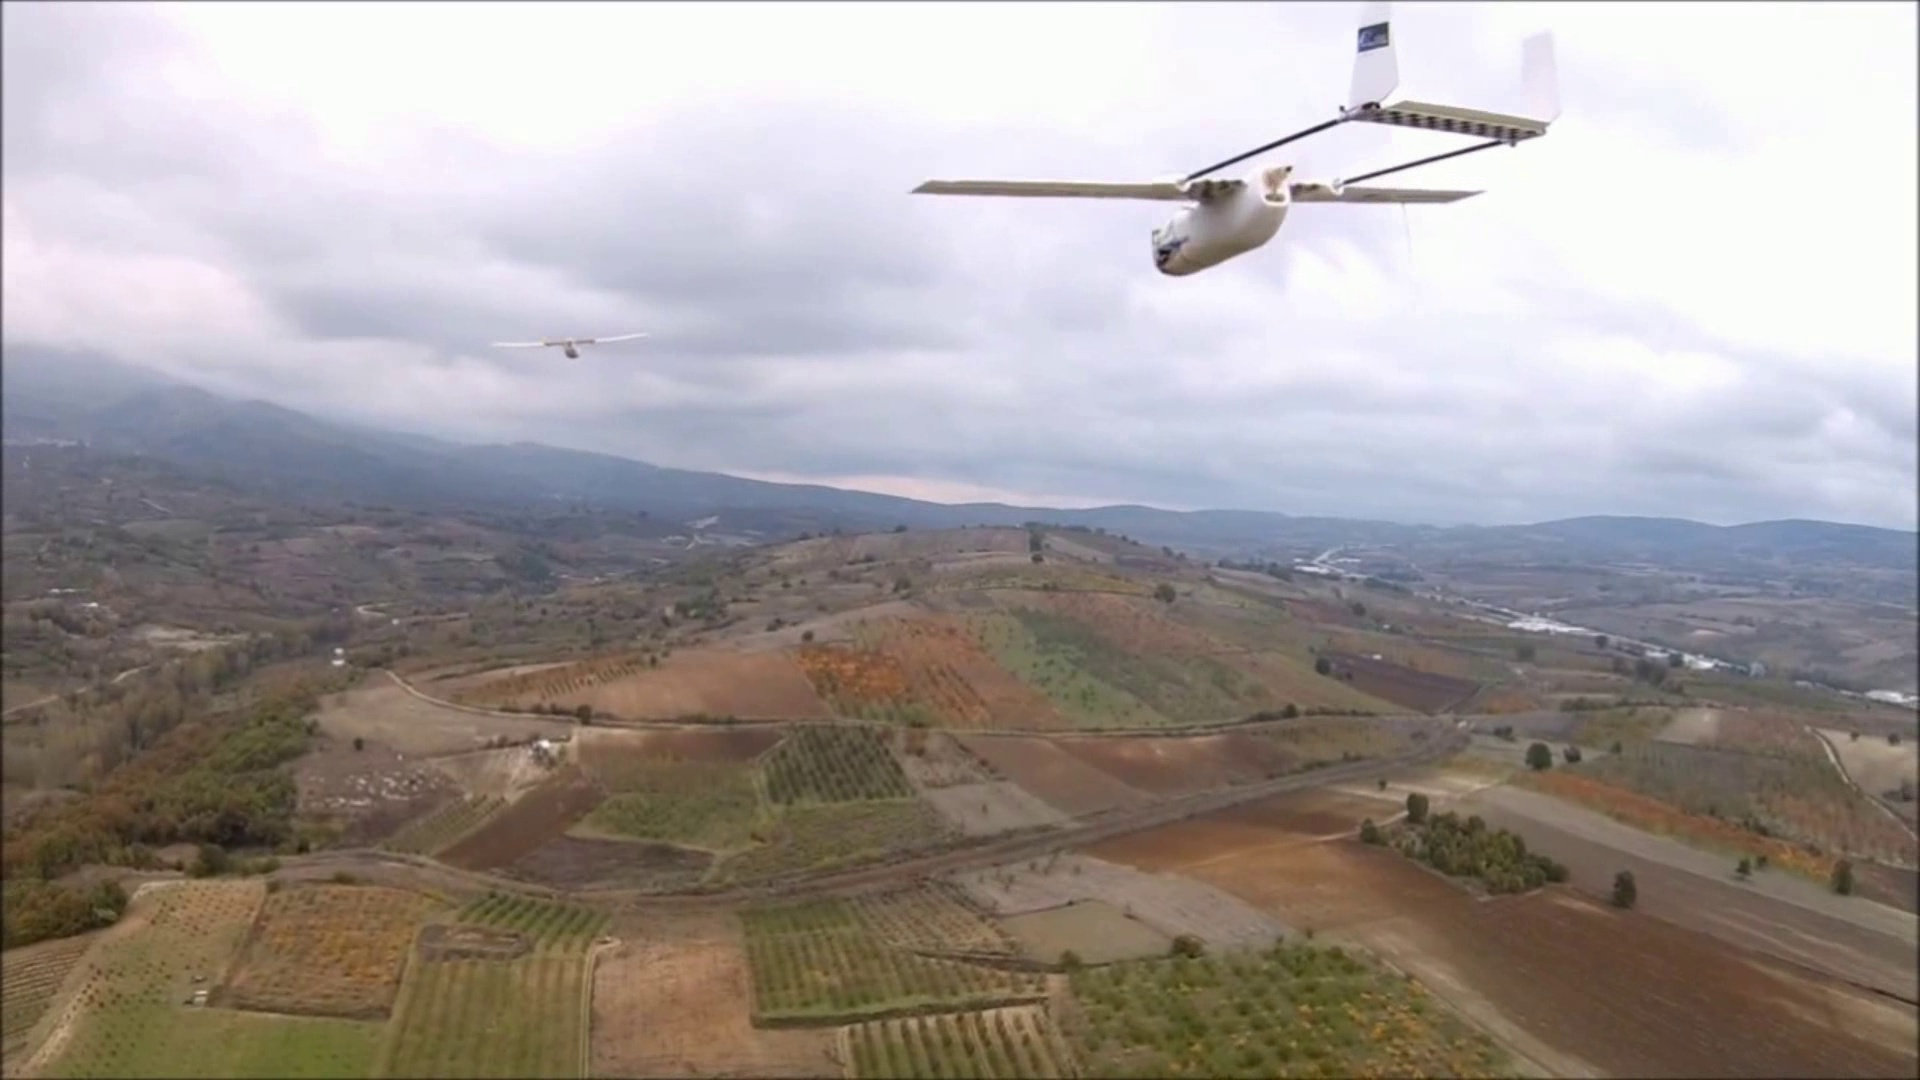airplane: (909, 18, 1561, 280)
